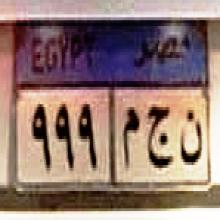9: (30, 102, 53, 176), (53, 96, 75, 173), (76, 96, 98, 170)
jeem: (146, 98, 173, 174)
meem: (119, 96, 142, 170)
noon: (179, 106, 204, 171)
